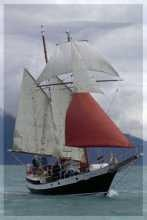fanchuan: (16, 28, 139, 196)
